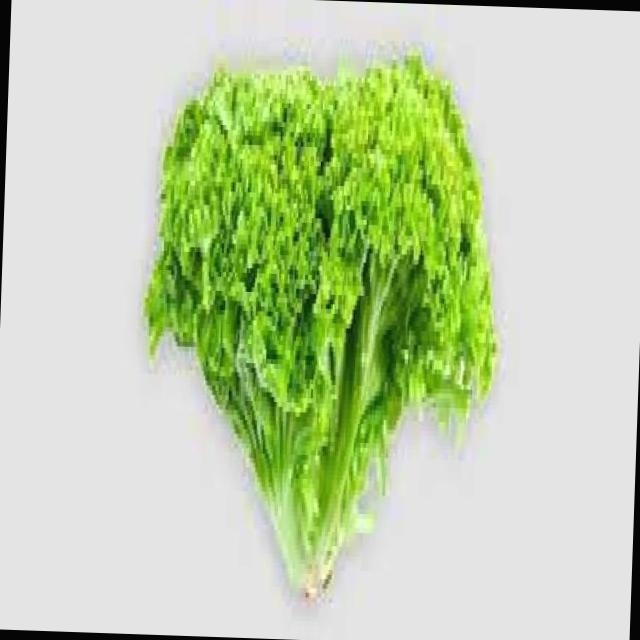Lettuce-Ready-to-Harvest: (146, 52, 494, 598)
